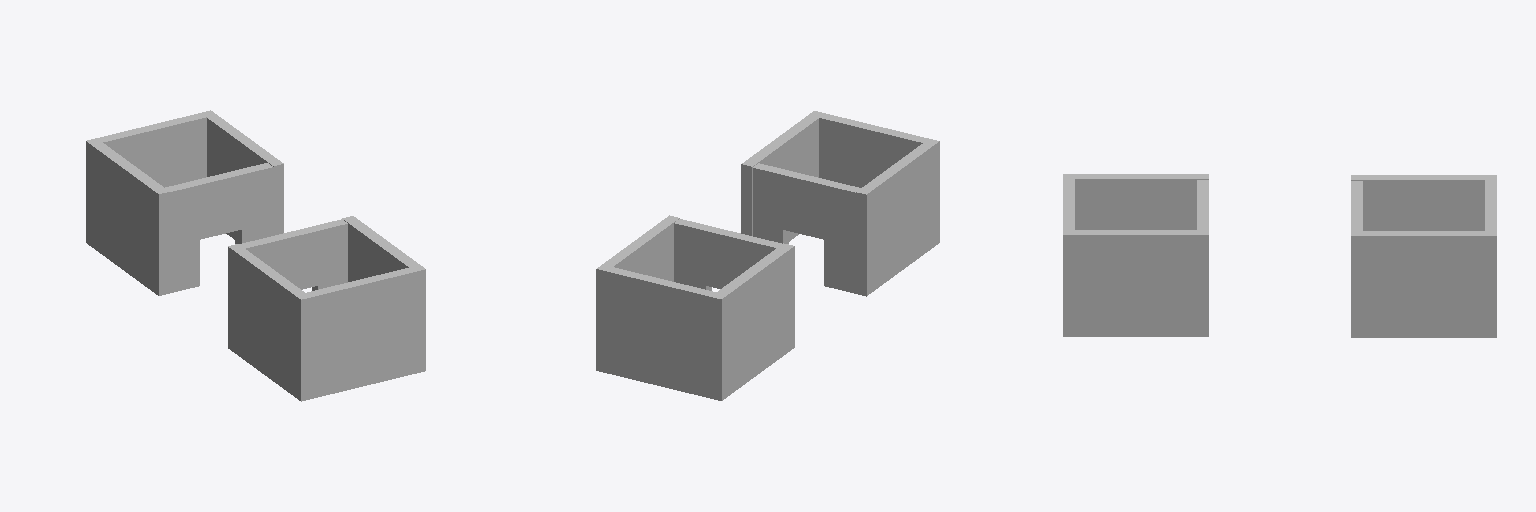
File: PartofSuperMarket.obj
3 views of the same model, side by side, from view 1: azimuth 30°, elevation 25°; view 2: azimuth 150°, elevation 25°; view 3: azimuth 270°, elevation 25° (orthographic).
Visible parts, largest first — view 1: PartofSuperMarket:group6 PartofSuperMarket:initialShadingGroup P, PartofSuperMarket:group1_pasted__group_pasted__pasted__pCube1 Pa; view 2: PartofSuperMarket:group1_pasted__group_pasted__pasted__pCube1 Pa, PartofSuperMarket:group6 PartofSuperMarket:initialShadingGroup P; view 3: PartofSuperMarket:group1_pasted__group_pasted__pasted__pCube1 Pa, PartofSuperMarket:group6 PartofSuperMarket:initialShadingGroup P.
Boxes of the visible parts, box(x1,y1,x2,y2) form: PartofSuperMarket:group6 PartofSuperMarket:initialShadingGroup P: box(228, 216, 425, 401); PartofSuperMarket:group1_pasted__group_pasted__pasted__pCube1 Pa: box(86, 110, 283, 295); PartofSuperMarket:group1_pasted__group_pasted__pasted__pCube1 Pa: box(596, 215, 794, 400); PartofSuperMarket:group6 PartofSuperMarket:initialShadingGroup P: box(741, 111, 939, 296); PartofSuperMarket:group1_pasted__group_pasted__pasted__pCube1 Pa: box(1351, 175, 1496, 337); PartofSuperMarket:group6 PartofSuperMarket:initialShadingGroup P: box(1063, 174, 1208, 336).
Bounding box in the file's own units: 20.44 × 15.7 × 60.55.